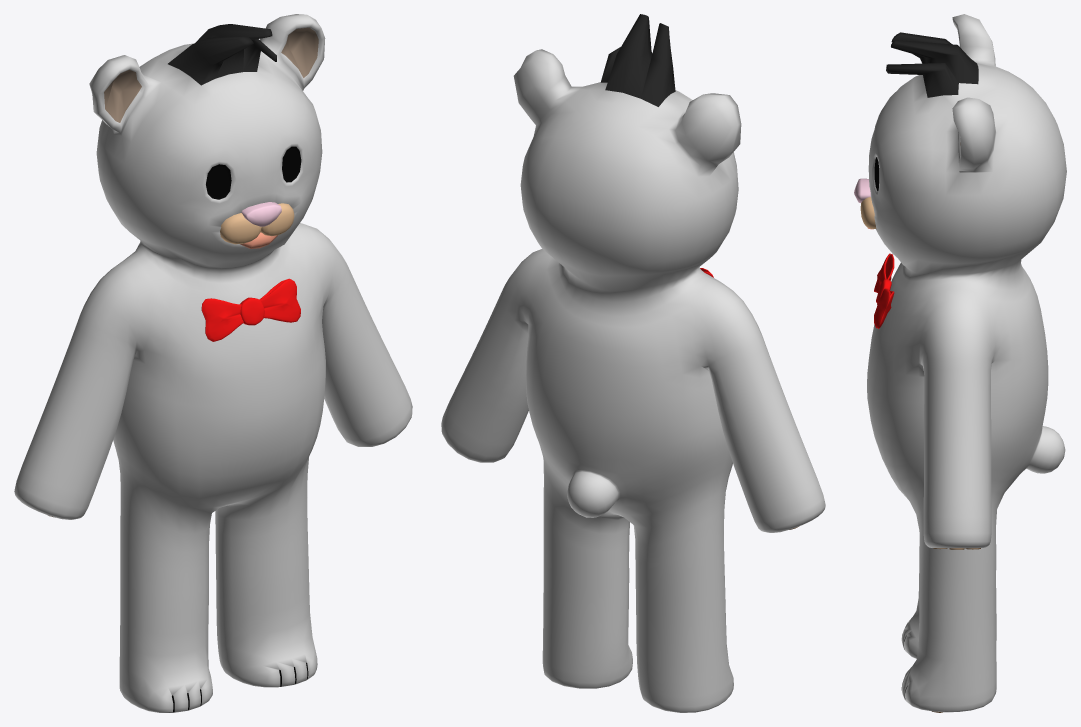
The model's file is HeroBear_lp.fbx.
3 views of the same model, side by side, from view 1: azimuth 30°, elevation 25°; view 2: azimuth 150°, elevation 25°; view 3: azimuth 270°, elevation 25° (orthographic). The views are drawn at different scales.
Visible parts, largest first — view 1: Hero_Bear, Vert.001, Cheeks, Nose; view 2: Hero_Bear; view 3: Hero_Bear, Vert.001, Cheeks.
Boxes of the visible parts, bbox=[...] form: Hero_Bear: bbox=[14, 14, 412, 712]; Vert.001: bbox=[201, 278, 300, 341]; Cheeks: bbox=[220, 203, 294, 244]; Nose: bbox=[241, 202, 281, 226]; Hero_Bear: bbox=[441, 14, 825, 712]; Hero_Bear: bbox=[867, 14, 1066, 712]; Vert.001: bbox=[874, 253, 894, 328]; Cheeks: bbox=[860, 197, 876, 228].
Bounding box in the file's own units: 109 × 180 × 53.95.
